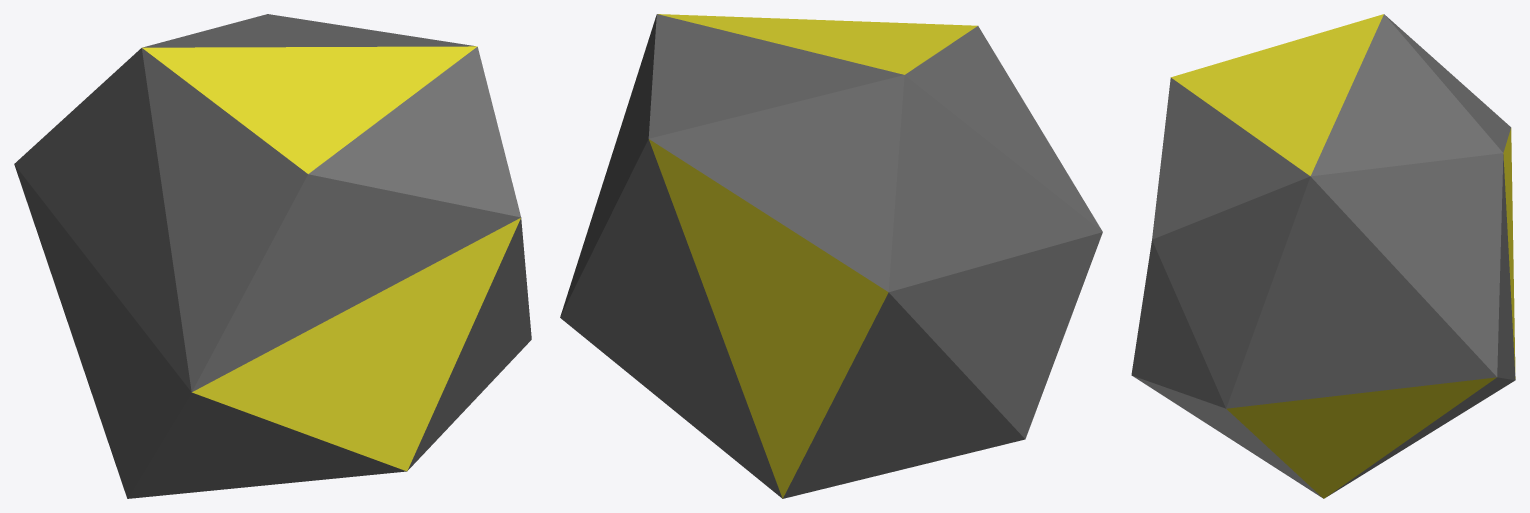
Rendered from gold_chunk.fbx.
3 views of the same model, side by side, from view 1: azimuth 30°, elevation 25°; view 2: azimuth 150°, elevation 25°; view 3: azimuth 270°, elevation 25° (orthographic). The views are drawn at different scales.
Visible parts, largest first — view 1: Cube; view 2: Cube; view 3: Cube.
Boxes of the visible parts, x1,y1,x2,y2 form: Cube: (14,14,531,498); Cube: (560,14,1102,498); Cube: (1131,14,1515,498).
Bounding box in the file's own units: 84.21 × 93.07 × 84.11.
